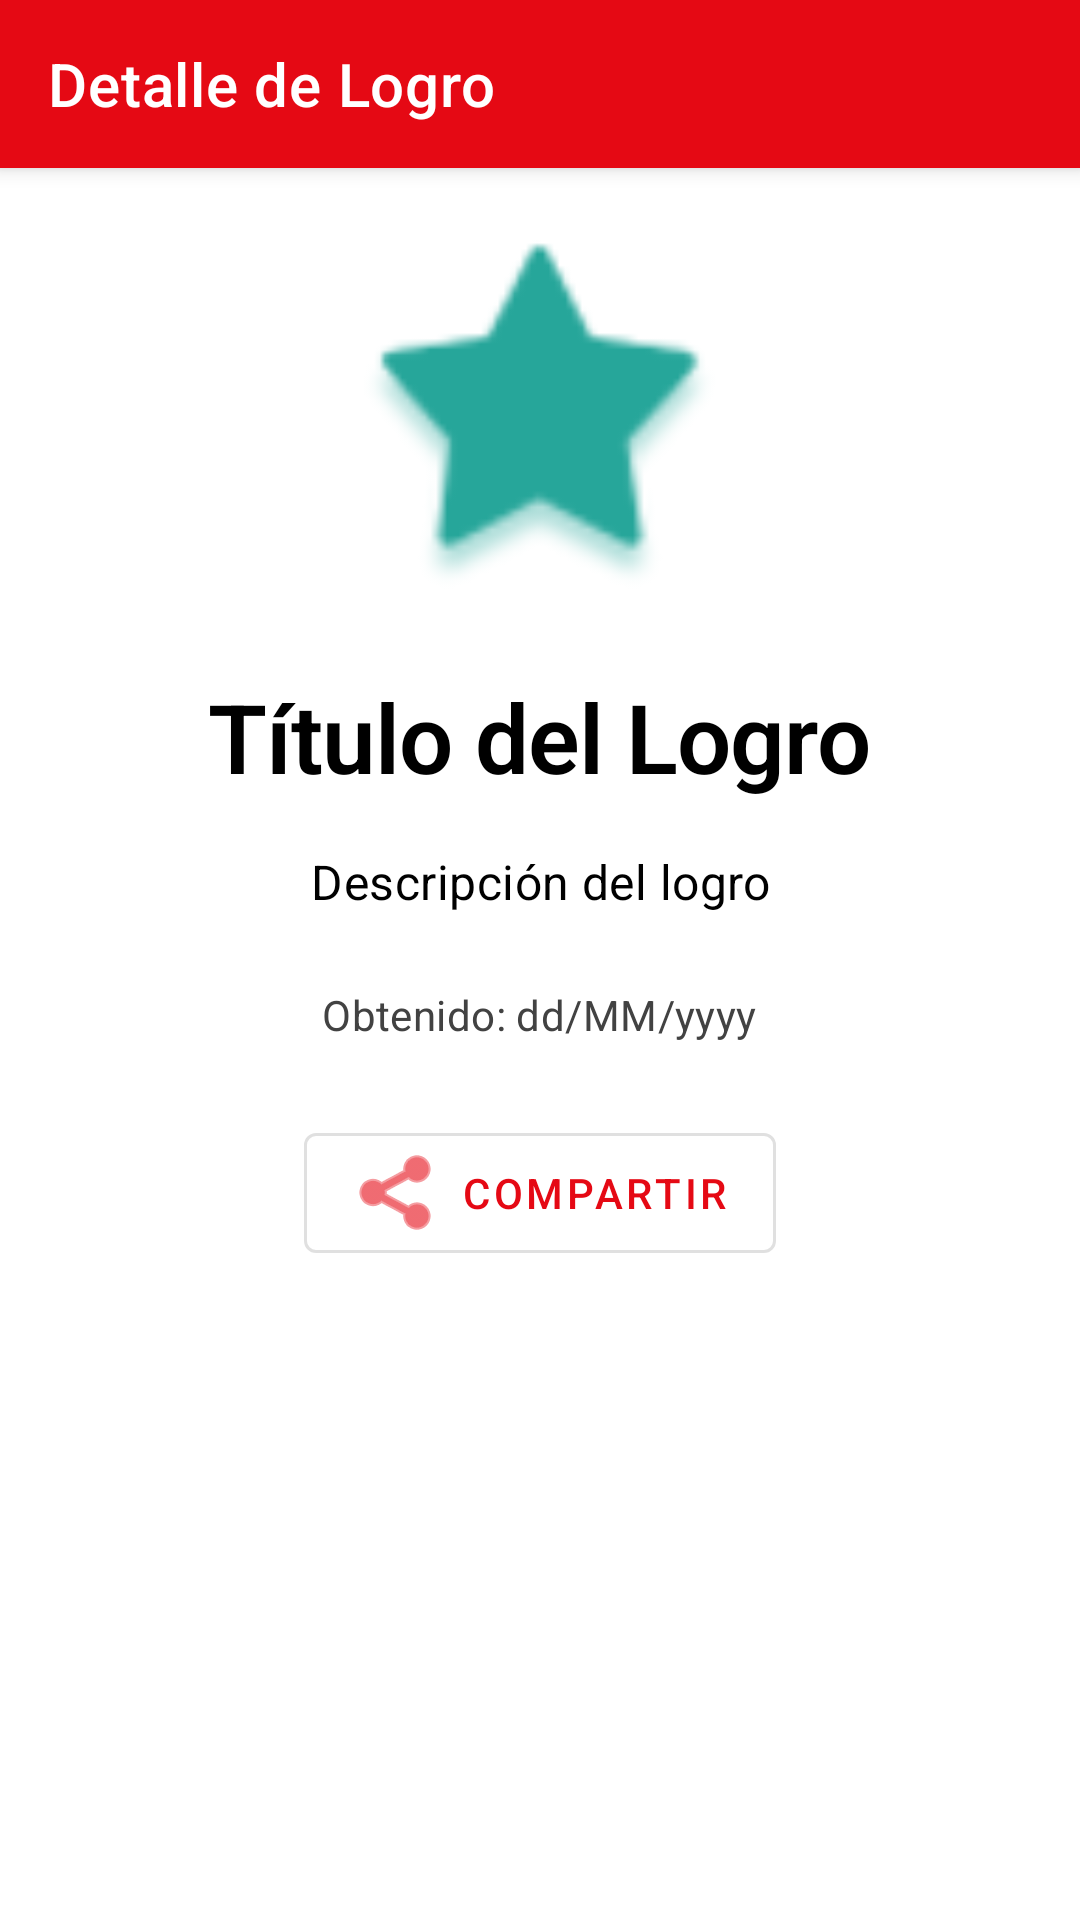

Where to tap for icons on this 1080px×1920px app screen, as [x,y]:
Icono de logro: [540,406]
